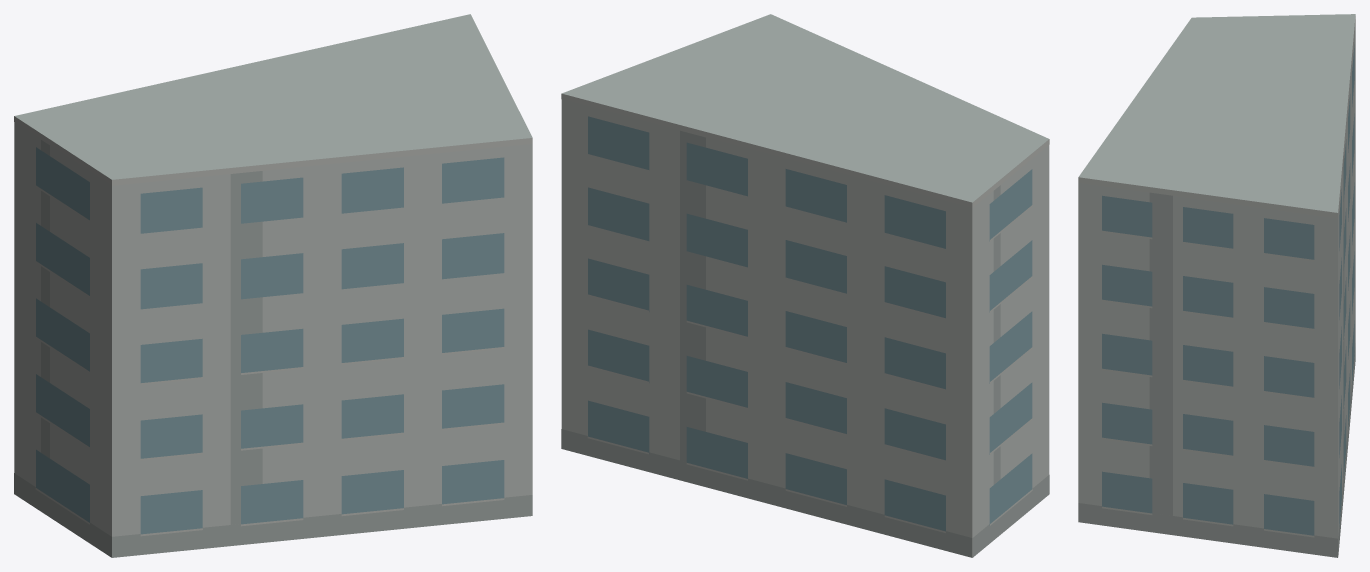
The model's file is residential-92e3e9d8-d1c3-40b1-890b-7a2df187de55.glb.
3 views of the same model, side by side, from view 1: azimuth 30°, elevation 25°; view 2: azimuth 150°, elevation 25°; view 3: azimuth 270°, elevation 25° (orthographic). The views are drawn at different scales.
Parts seen in each view (by area): view 1: residential-92e3e9d8-d1c3-40b1-890b-7a2df187de55.tmp; view 2: residential-92e3e9d8-d1c3-40b1-890b-7a2df187de55.tmp; view 3: residential-92e3e9d8-d1c3-40b1-890b-7a2df187de55.tmp.
Boxes of the visible parts, box(x1,y1,x2,y2) form: residential-92e3e9d8-d1c3-40b1-890b-7a2df187de55.tmp: box(14, 14, 532, 557); residential-92e3e9d8-d1c3-40b1-890b-7a2df187de55.tmp: box(561, 14, 1049, 557); residential-92e3e9d8-d1c3-40b1-890b-7a2df187de55.tmp: box(1078, 14, 1355, 557).
Size of the model in its own units: 18.87 by 15.25 by 11.12.
